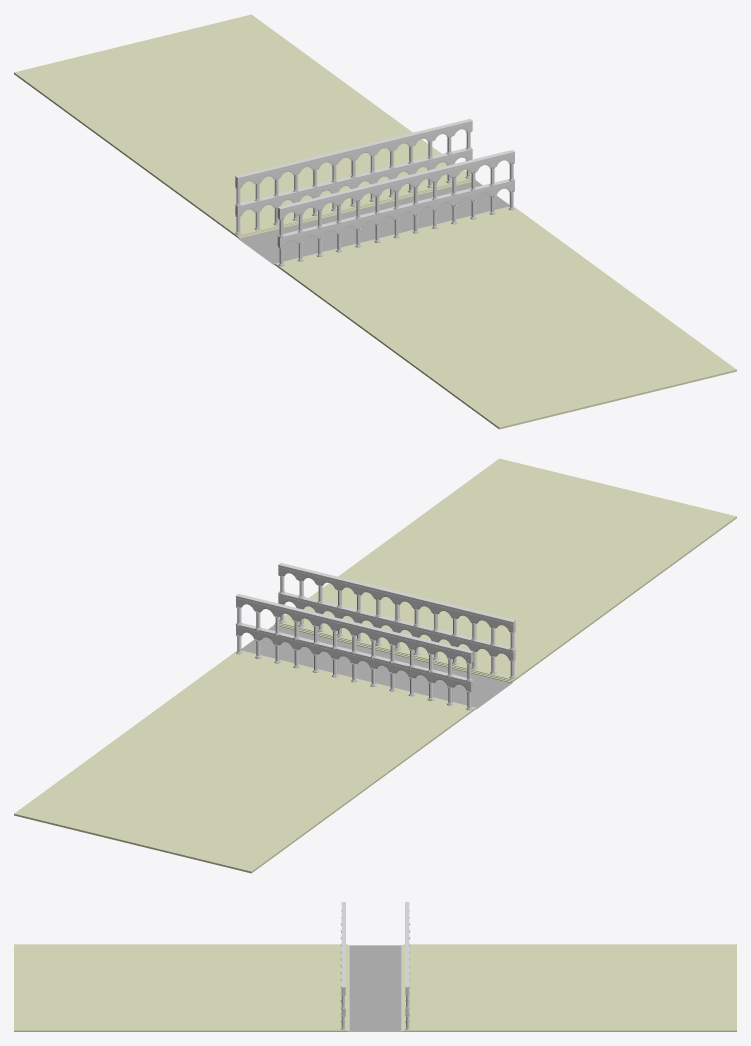
File: last corridor.fbx
3 views of the same model, one above another, from view 1: azimuth 30°, elevation 25°; view 2: azimuth 150°, elevation 25°; view 3: azimuth 270°, elevation 25° (orthographic). The views are drawn at different scales.
Visible parts, largest first — view 1: 立方体, 平面.002, 平面.001, 平面, 圆环.001, 圆环; view 2: 立方体, 平面.002, 平面.001, 平面, 圆环.001, 圆环; view 3: 立方体, 平面, 平面.002.
Boxes of the visible parts, <box> form: 立方体: <box>14,14,736,429</box>; 平面.002: <box>235,119,514,219</box>; 平面.001: <box>235,148,515,247</box>; 平面: <box>238,181,509,265</box>; 圆环.001: <box>235,131,514,237</box>; 圆环: <box>235,160,514,266</box>; 立方体: <box>14,458,736,873</box>; 平面.002: <box>236,563,515,663</box>; 平面.001: <box>235,592,515,691</box>; 平面: <box>241,625,512,709</box>; 圆环.001: <box>236,575,515,681</box>; 圆环: <box>236,604,515,710</box>; 立方体: <box>14,944,736,1031</box>; 平面: <box>349,945,401,1031</box>; 平面.002: <box>341,902,409,995</box>.
Size of the model in its own units: 31421 by 7425 by 110768.
